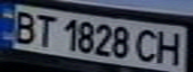1: (57, 16, 81, 52)
2: (93, 20, 115, 57)
8: (112, 24, 136, 61), (75, 18, 96, 55)
B: (6, 8, 42, 44)
C: (133, 26, 163, 64)
H: (151, 28, 187, 65)
T: (30, 11, 60, 47)
